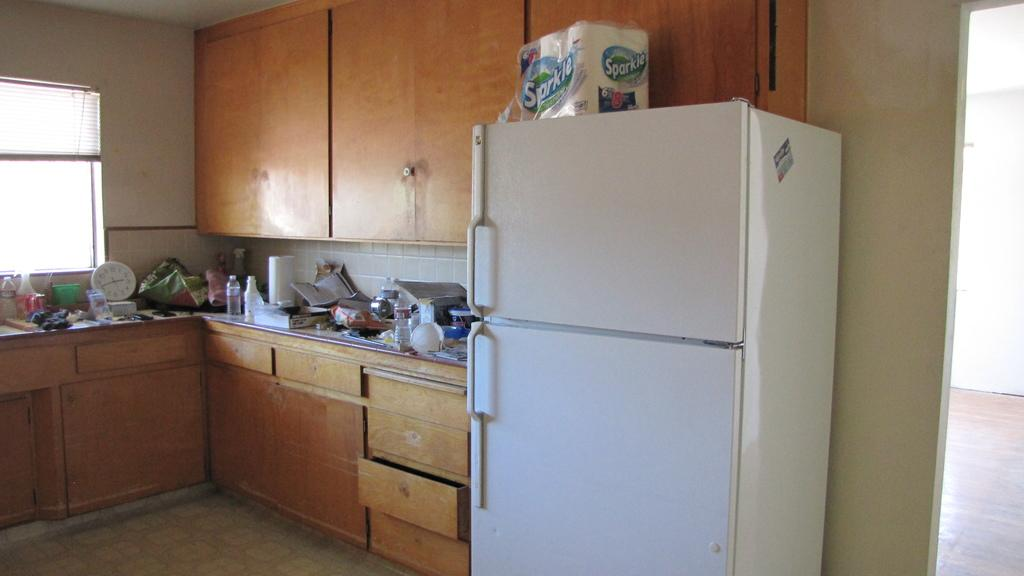cabinet_door: (332, 12, 413, 238), (54, 380, 204, 486), (417, 17, 477, 232), (358, 466, 456, 524), (376, 418, 466, 472), (380, 520, 466, 569), (276, 351, 363, 390), (76, 339, 194, 364), (209, 338, 284, 368)
handle: (456, 326, 494, 418), (466, 216, 490, 310)
